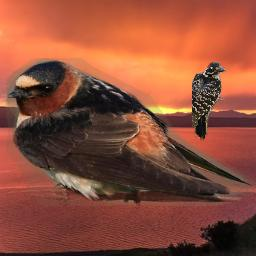Swallow: (6, 58, 255, 206)
Woodpecker: (192, 61, 226, 141)
